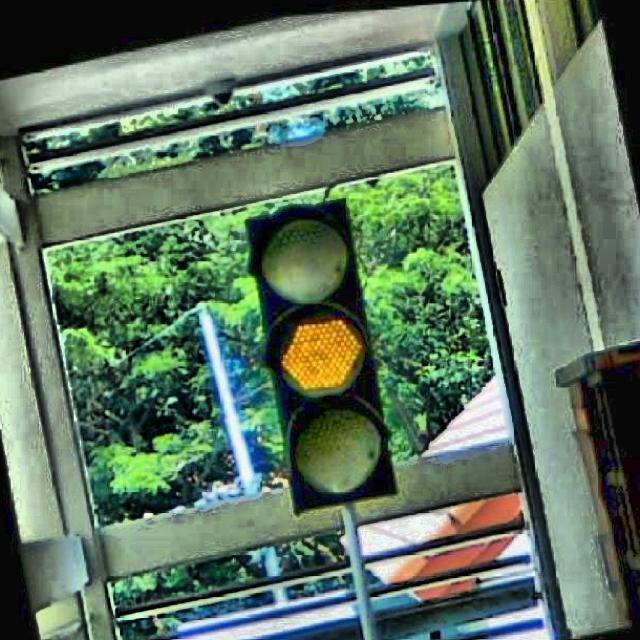yellow: (248, 197, 404, 516)
